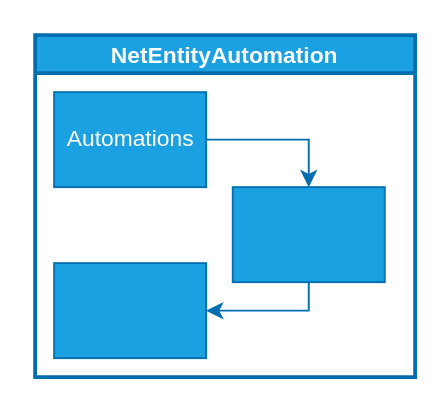
Some shapes in this 448 by 410 pixel diagram are drawn without their labels. Here are the shapes that lost their labels. From the top down, the centre of each, then its label:
[308,233]: FSM
[129,309]: Extensions
